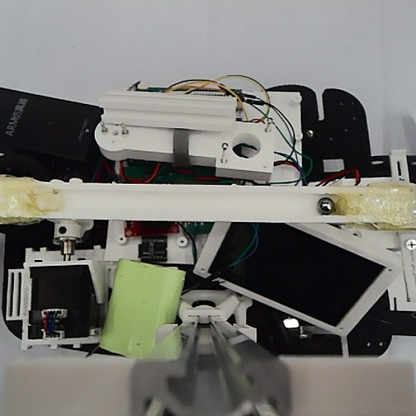ironball: (314, 195, 334, 215)
